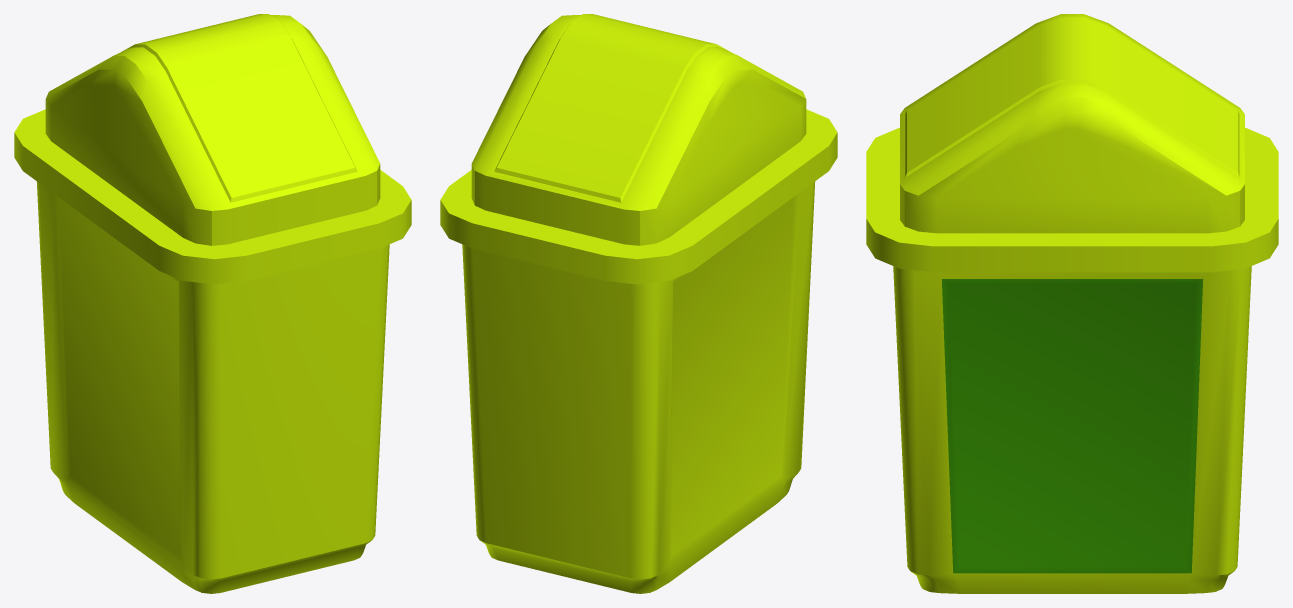
The model's file is tacho.fbx.
The picture shows the model from 3 angles, left to right: view 1: azimuth 30°, elevation 25°; view 2: azimuth 150°, elevation 25°; view 3: azimuth 270°, elevation 25°; orthographic projection. The views are drawn at different scales.
Visible parts, largest first — view 1: Tacho, Tapa; view 2: Tacho, Tapa; view 3: Tacho, Tapa.
Part boxes in pixels (x1,y1,x2,y2): Tacho: (36, 181, 389, 593); Tapa: (14, 14, 411, 284); Tacho: (462, 181, 815, 593); Tapa: (440, 14, 837, 284); Tacho: (893, 266, 1251, 593); Tapa: (866, 14, 1278, 272).
Size of the model in its own units: 164 by 314 by 233.
